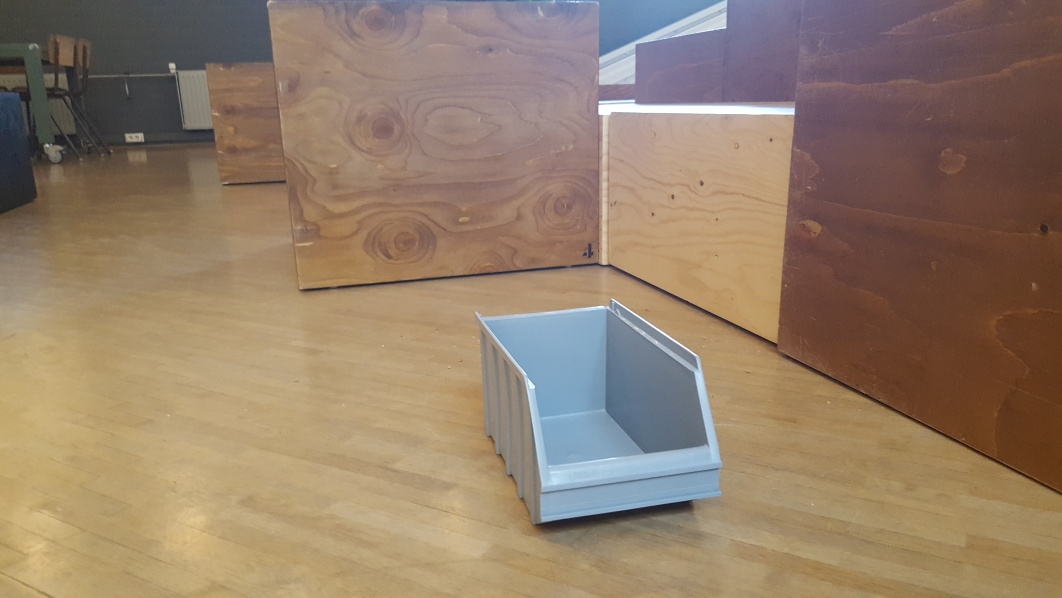tray: (473, 293, 724, 534)
